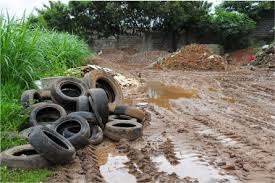tire: (81, 65, 127, 116), (30, 128, 78, 164), (53, 115, 95, 151), (1, 145, 58, 169), (50, 76, 92, 106), (19, 90, 49, 129), (29, 102, 70, 128), (105, 120, 148, 143), (110, 106, 149, 127)
